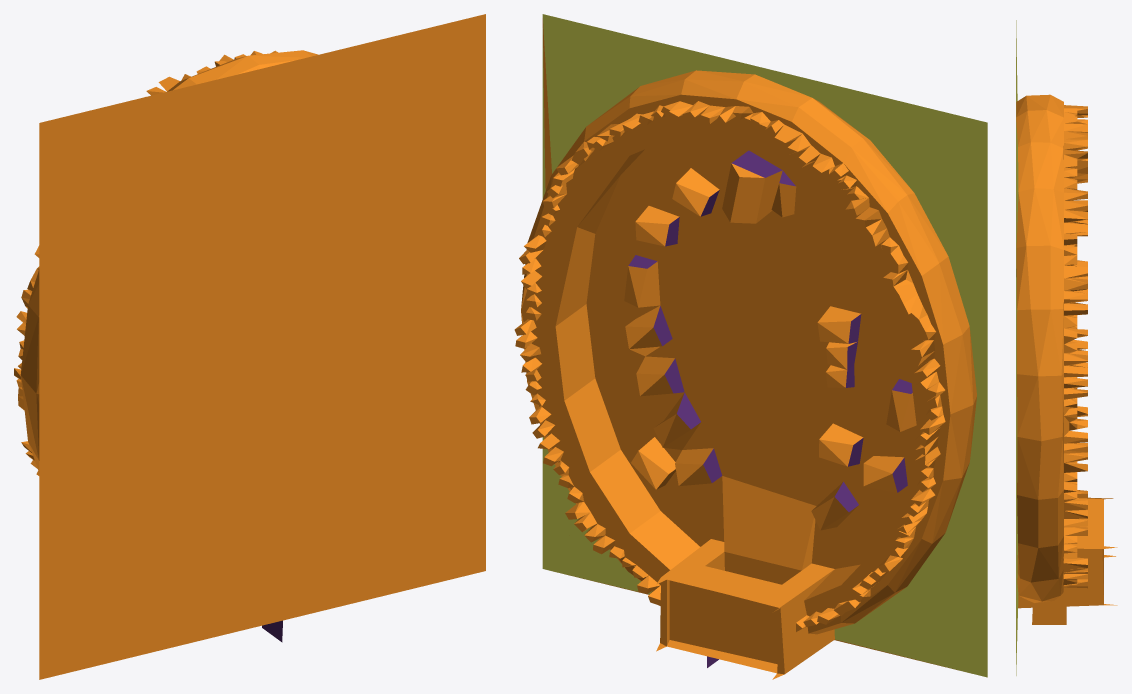
Rendered from PiotrówkaV2.fbx.
3 renders of one model, left to right at view 1: azimuth 30°, elevation 25°; view 2: azimuth 150°, elevation 25°; view 3: azimuth 270°, elevation 25°, orthographic. The views are drawn at different scales.
Parts seen in each view (by area): view 1: Piotrowka_osada; view 2: Piotrowka_osada; view 3: Piotrowka_osada.
Boxes of the visible parts, box(x1,y1,x2,y2) form: Piotrowka_osada: box(14, 14, 485, 679); Piotrowka_osada: box(514, 14, 987, 679); Piotrowka_osada: box(1016, 20, 1117, 675).
Bounding box in the file's own units: 42.8 × 53.66 × 9.8.
1 material, 1 textured.
